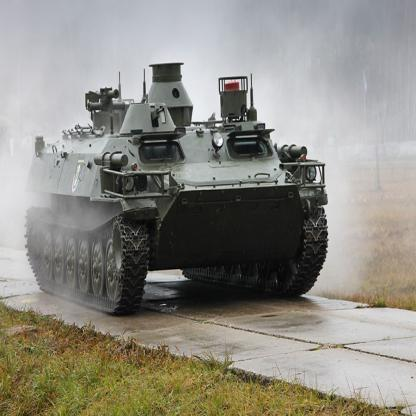MIL_IFV: (24, 61, 331, 316)
